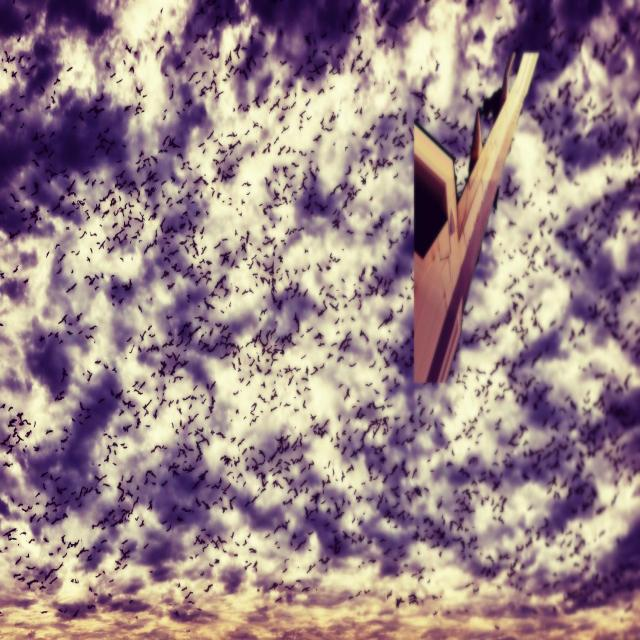airplane: (412, 48, 539, 386)
